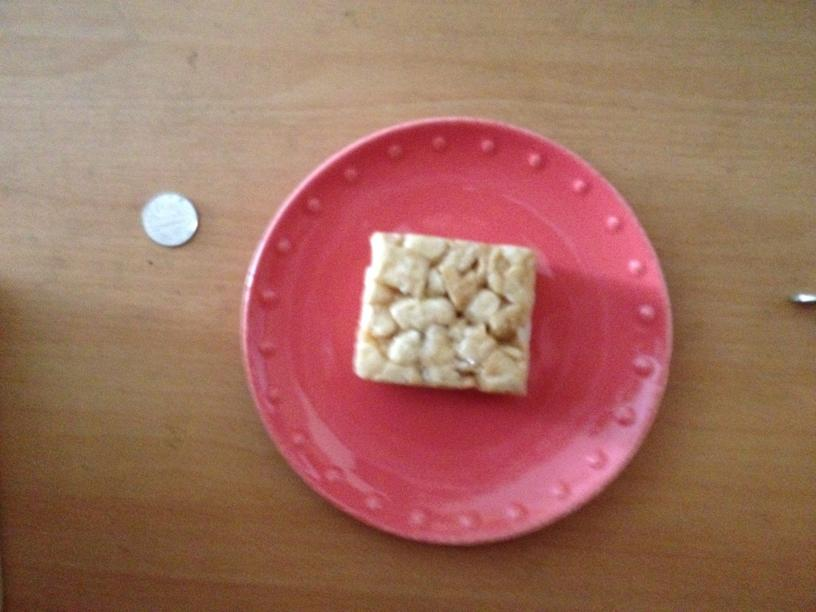coin: (136, 192, 199, 245)
sachima: (356, 225, 541, 406)
